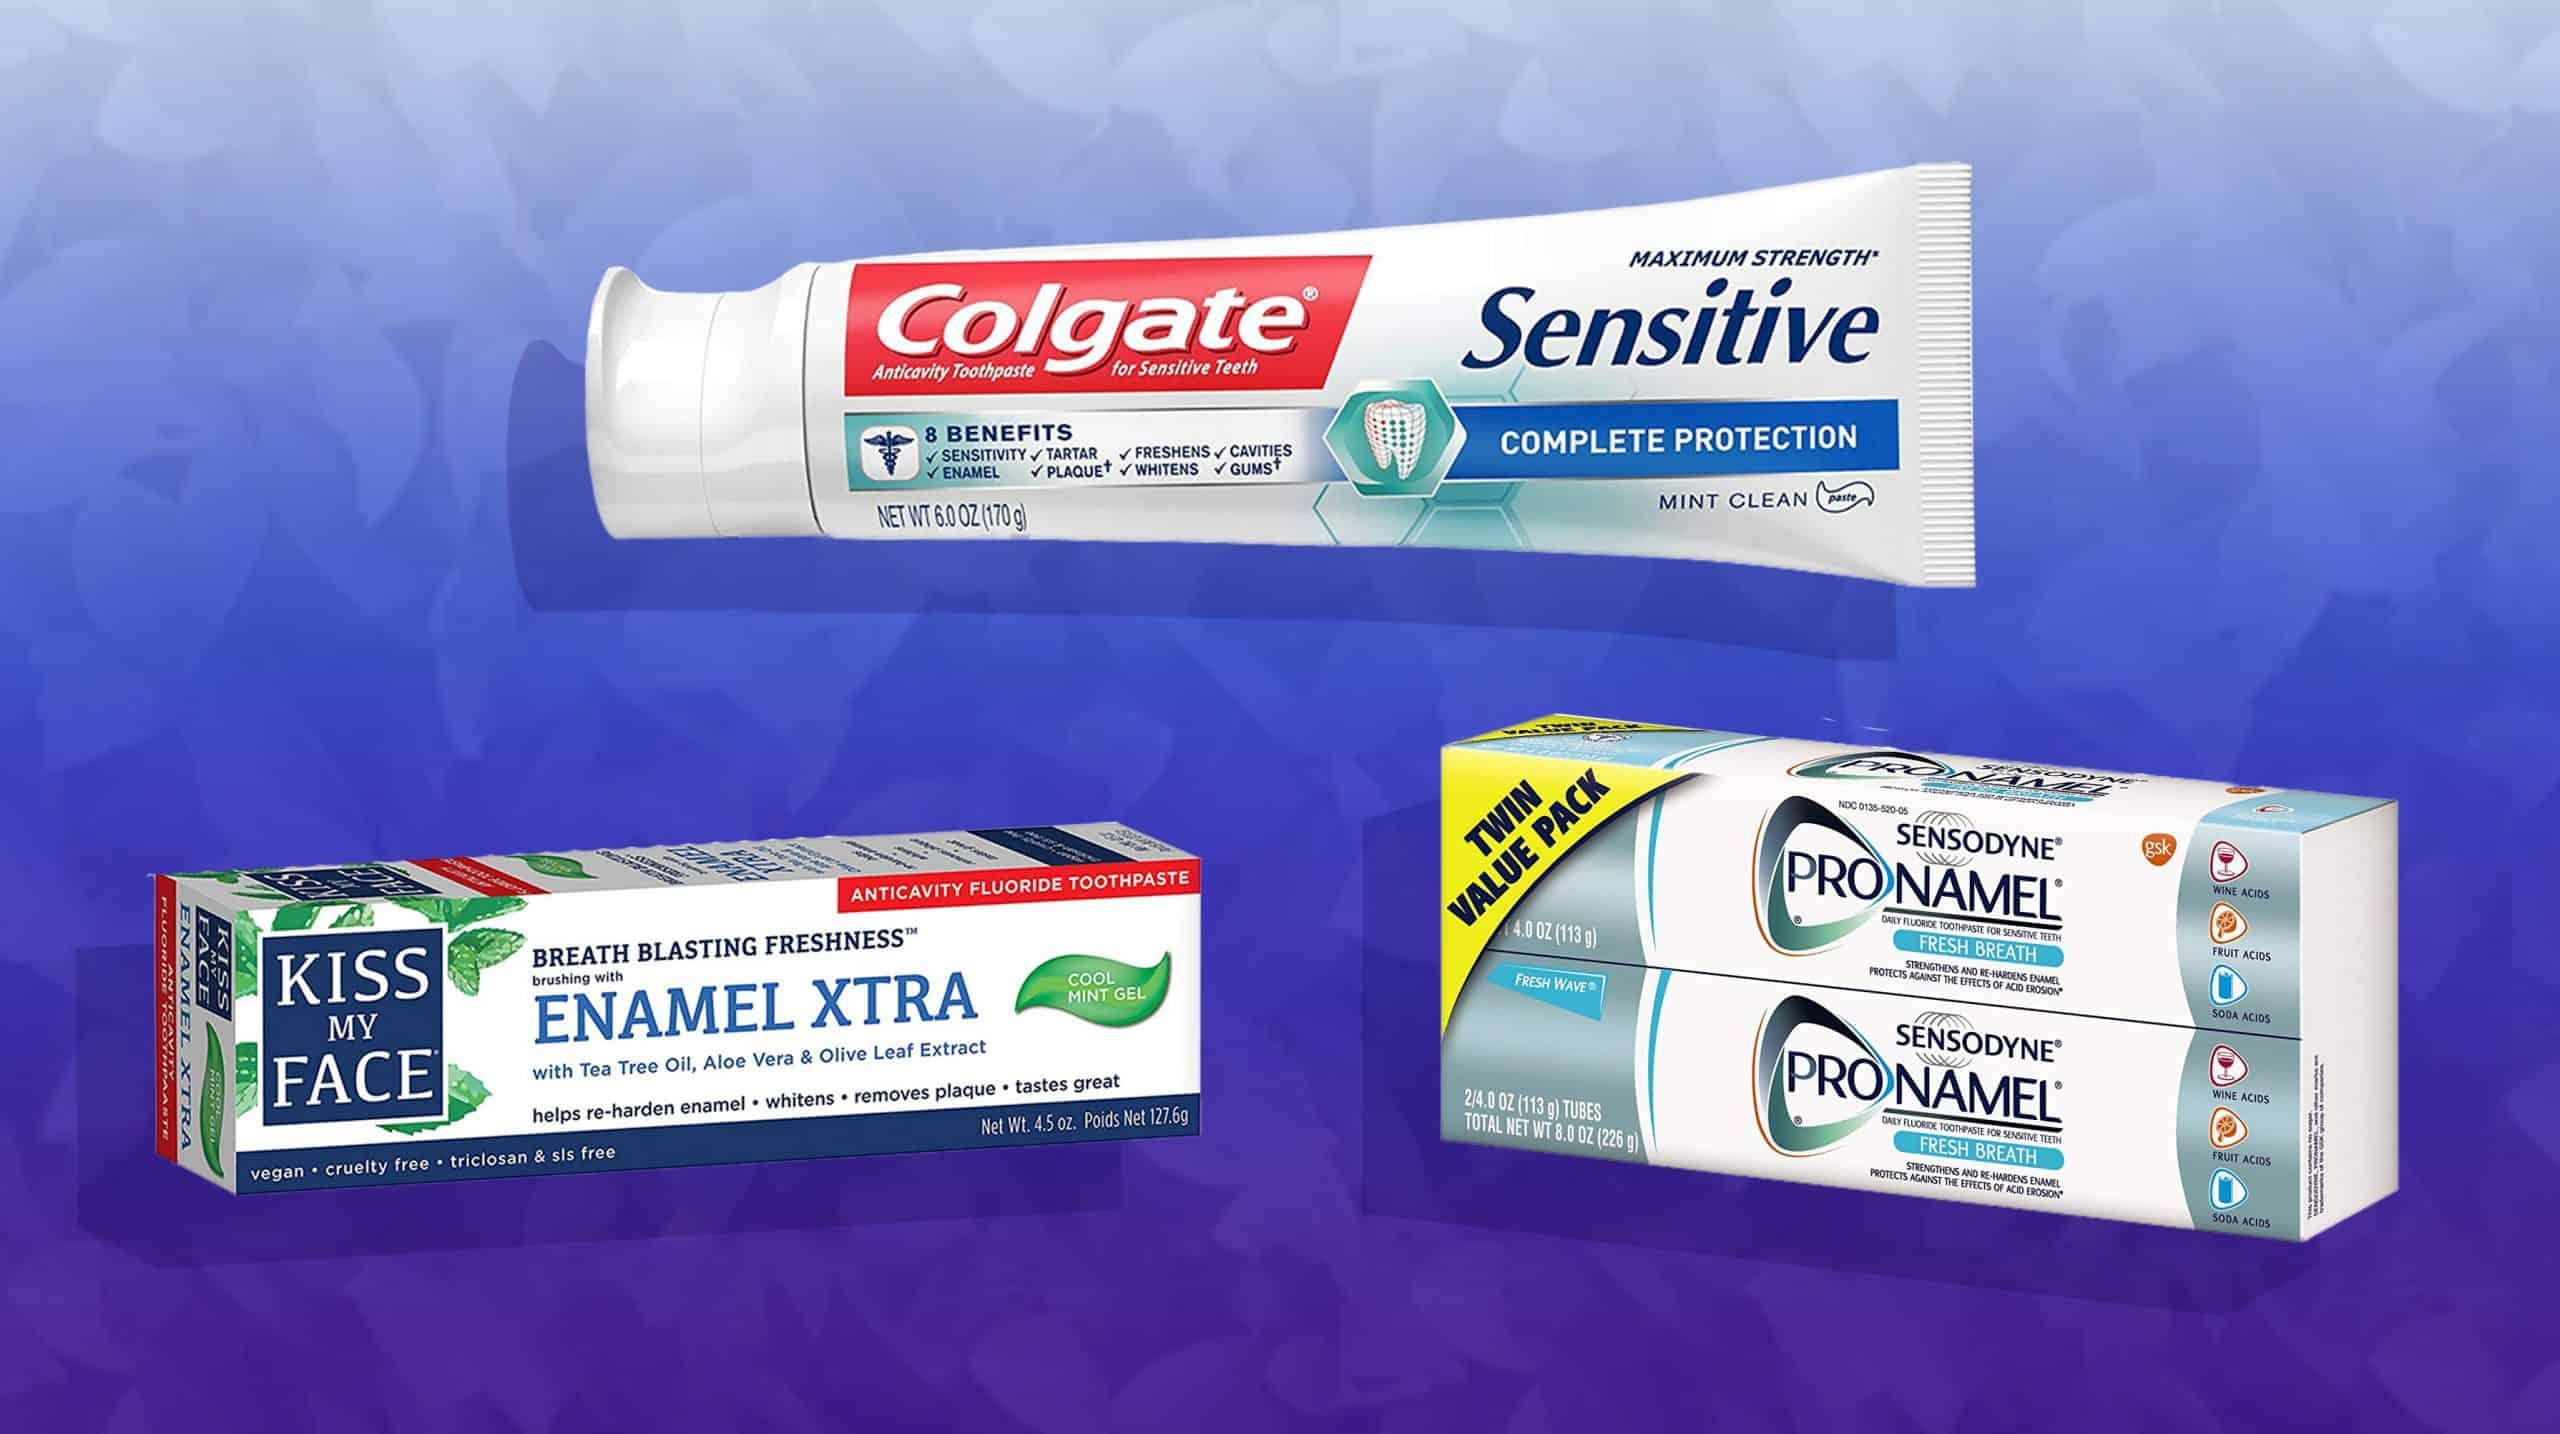toothpaste: (515, 218, 1978, 599), (135, 808, 1245, 1186), (1357, 898, 2430, 1244), (1431, 675, 2400, 1049)
